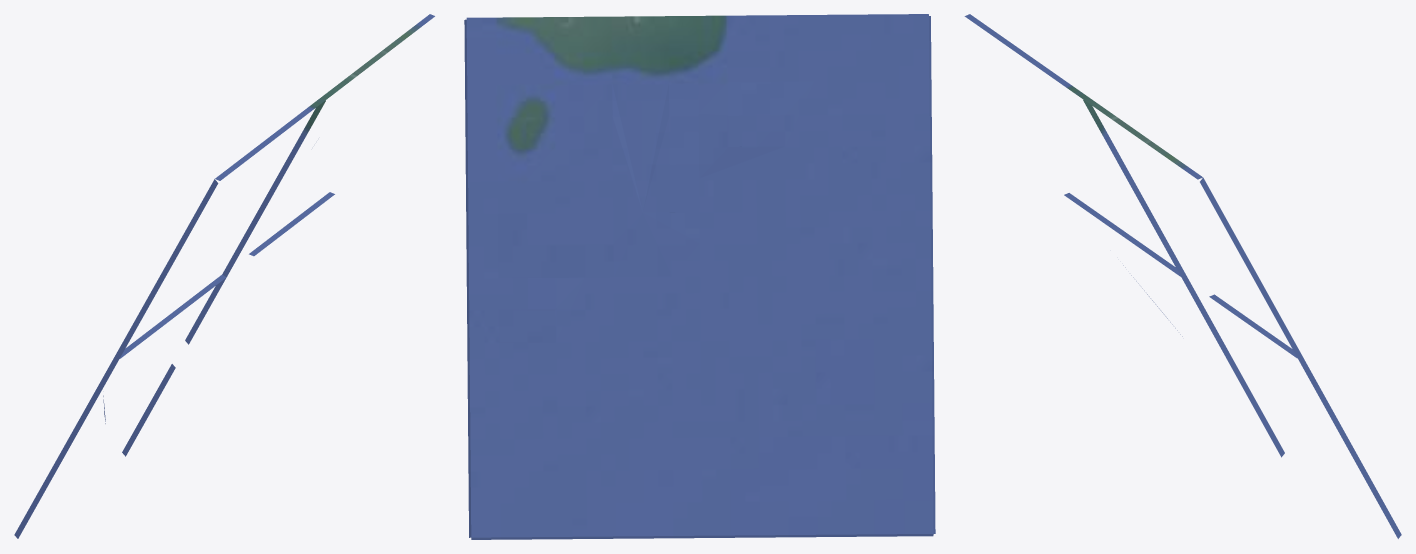
The picture shows the model from 3 angles, left to right: view 1: azimuth 30°, elevation 25°; view 2: azimuth 150°, elevation 25°; view 3: azimuth 270°, elevation 25°; orthographic projection. The views are drawn at different scales.
Bounding box in the file's own units: 39561 × 35211 × 33874.
Materials: 1 (1 with a texture image).
